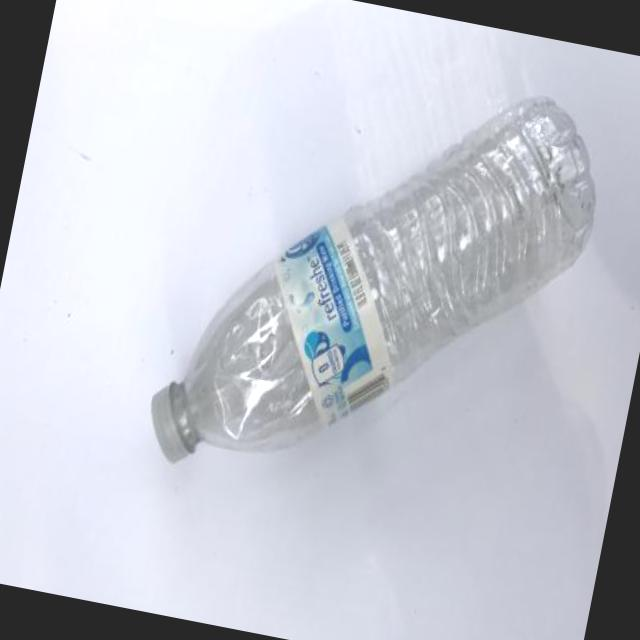Recycle: (140, 34, 618, 537)
